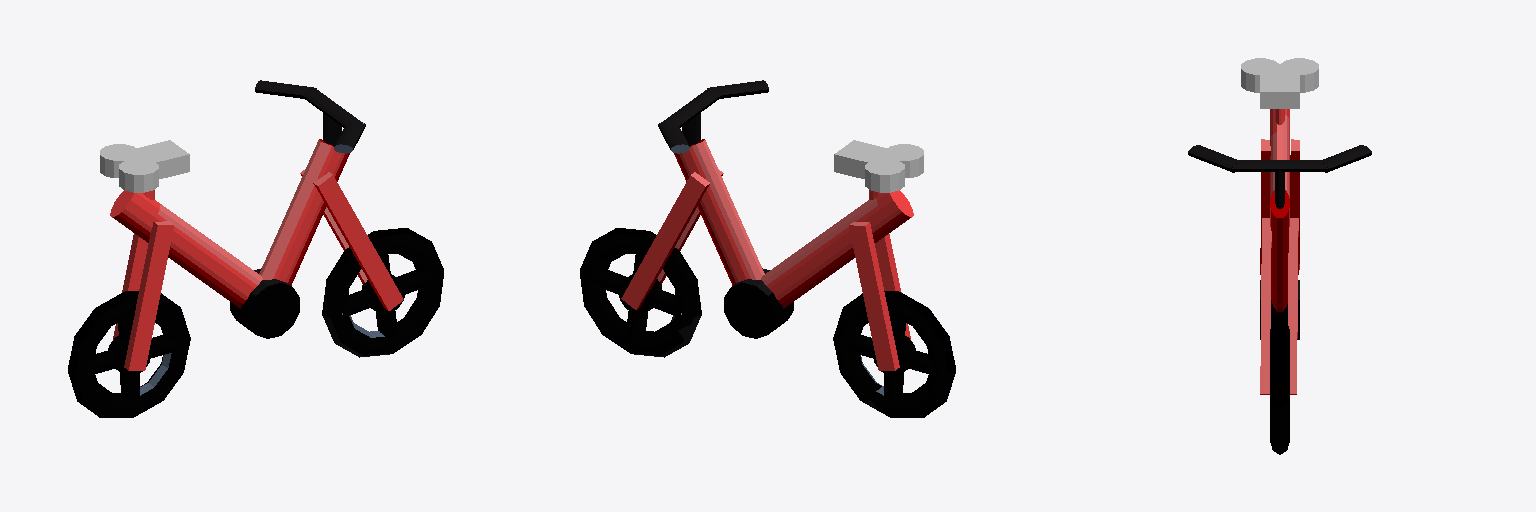
The picture shows the model from 3 angles: view 1: azimuth 30°, elevation 25°; view 2: azimuth 150°, elevation 25°; view 3: azimuth 270°, elevation 25°; orthographic projection.
Parts seen in each view (by area): view 1: cylinder, torus, cuboid, cube; view 2: cylinder, torus, cuboid, cube; view 3: cylinder, cuboid, torus, cube.
Part boxes in pixels (left/top/right/bottom): cylinder: left=87, top=80, right=434, bottom=405; torus: left=68, top=228, right=443, bottom=417; cuboid: left=113, top=170, right=403, bottom=370; cube: left=143, top=140, right=189, bottom=178; cylinder: left=589, top=80, right=936, bottom=405; torus: left=580, top=228, right=955, bottom=417; cuboid: left=621, top=170, right=910, bottom=370; cube: left=834, top=140, right=882, bottom=178; cylinder: left=1188, top=58, right=1371, bottom=339; cuboid: left=1260, top=139, right=1299, bottom=394; torus: left=1270, top=317, right=1289, bottom=454; cube: left=1260, top=75, right=1299, bottom=108.
Size of the model in its own units: 1.39 by 0.9294 by 0.5891.
3 materials, 2 textured.